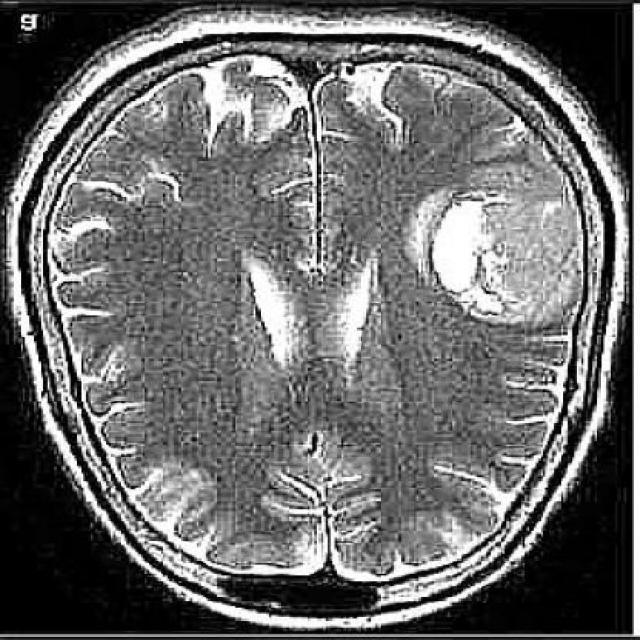Brain-Tumor: (403, 159, 602, 347)
